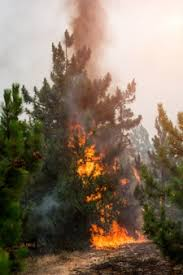fire: (88, 222, 147, 245)
smoke: (67, 1, 122, 127)
